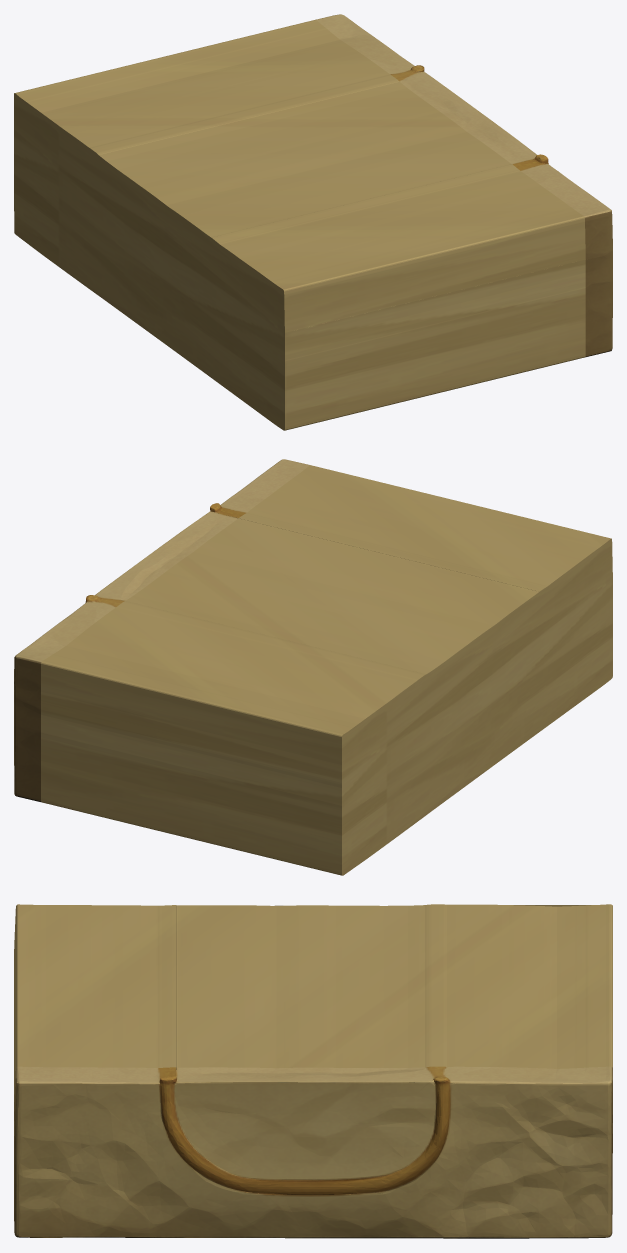
The picture shows the model from 3 angles, top to bottom: view 1: azimuth 30°, elevation 25°; view 2: azimuth 150°, elevation 25°; view 3: azimuth 270°, elevation 25°; orthographic projection. The views are drawn at different scales.
Visible parts, largest first — view 1: world; view 2: world; view 3: world.
Boxes of the visible parts, box(x1,y1,x2,y2) form: world: box(14, 14, 612, 430); world: box(14, 459, 612, 875); world: box(14, 904, 612, 1238).
Size of the model in its own units: 0.7156 by 0.2952 by 0.9995.
Materials: 2 (2 with a texture image).
